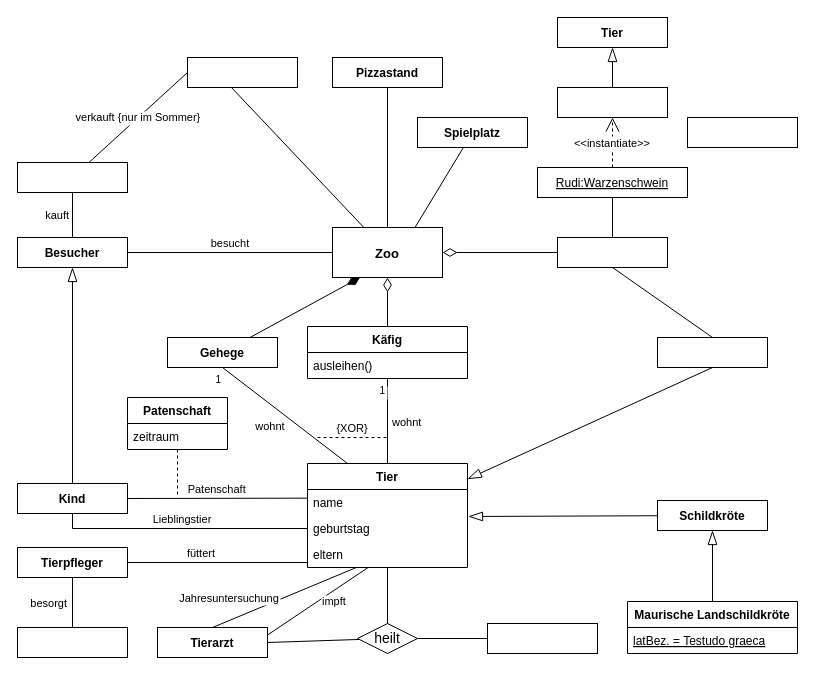
Image size: 815x675. Some labels were removed from this diagram. The shapes that lost their labels are listed below. From the top down, each one's centre as x and y in pixels, then its label:
(242,72): Eisstand
(612,102): Warzenschwein
(742,132): Jahreskarte
(72,177): Eis
(612,252): Streichelzoo
(712,352): Schaf
(72,642): Futter
(542,638): Krankheit
